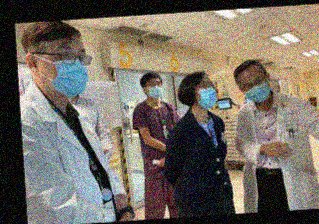with_mask: (37, 44, 89, 97), (239, 76, 271, 102), (195, 78, 218, 108), (144, 79, 164, 99)
